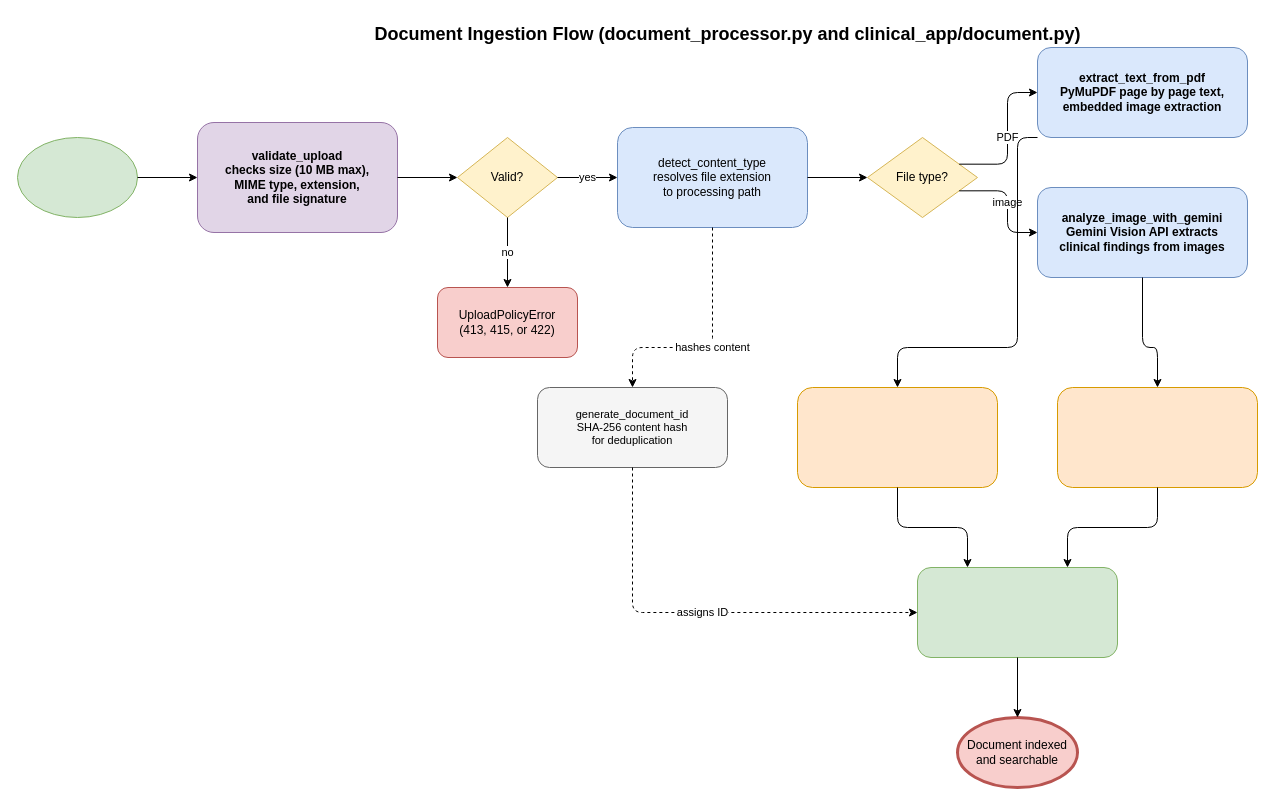
Some shapes in this 1275 by 806 pixel diagram are drawn without their labels. Each missing label, with the box of its shape:
chunk_text splits extracted text into overlapping segments for retrieval search: (796, 386, 998, 488)
Clinician uploads PDF or image: (16, 136, 138, 218)
database.py documents and document_chunks persisted to SQLite: (916, 566, 1118, 658)
structure_clinical_content Gemini powered structuring of extracted clinical data: (1056, 386, 1258, 488)
